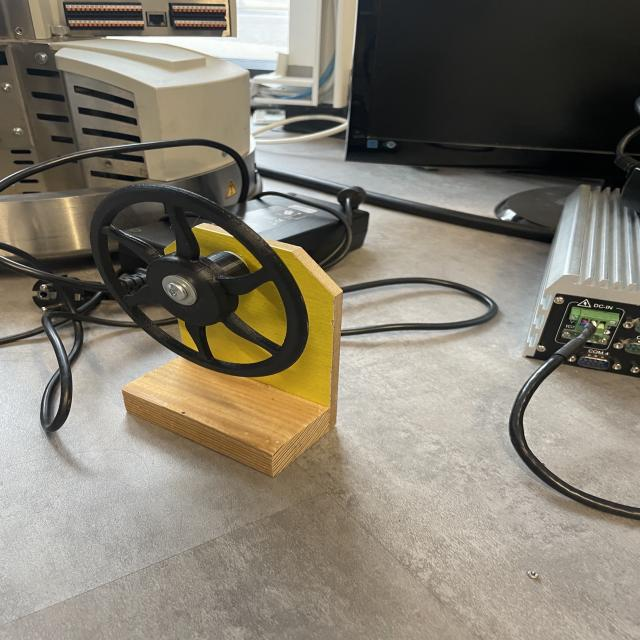Wheel Handle Valve Threaded: (87, 182, 310, 378)
